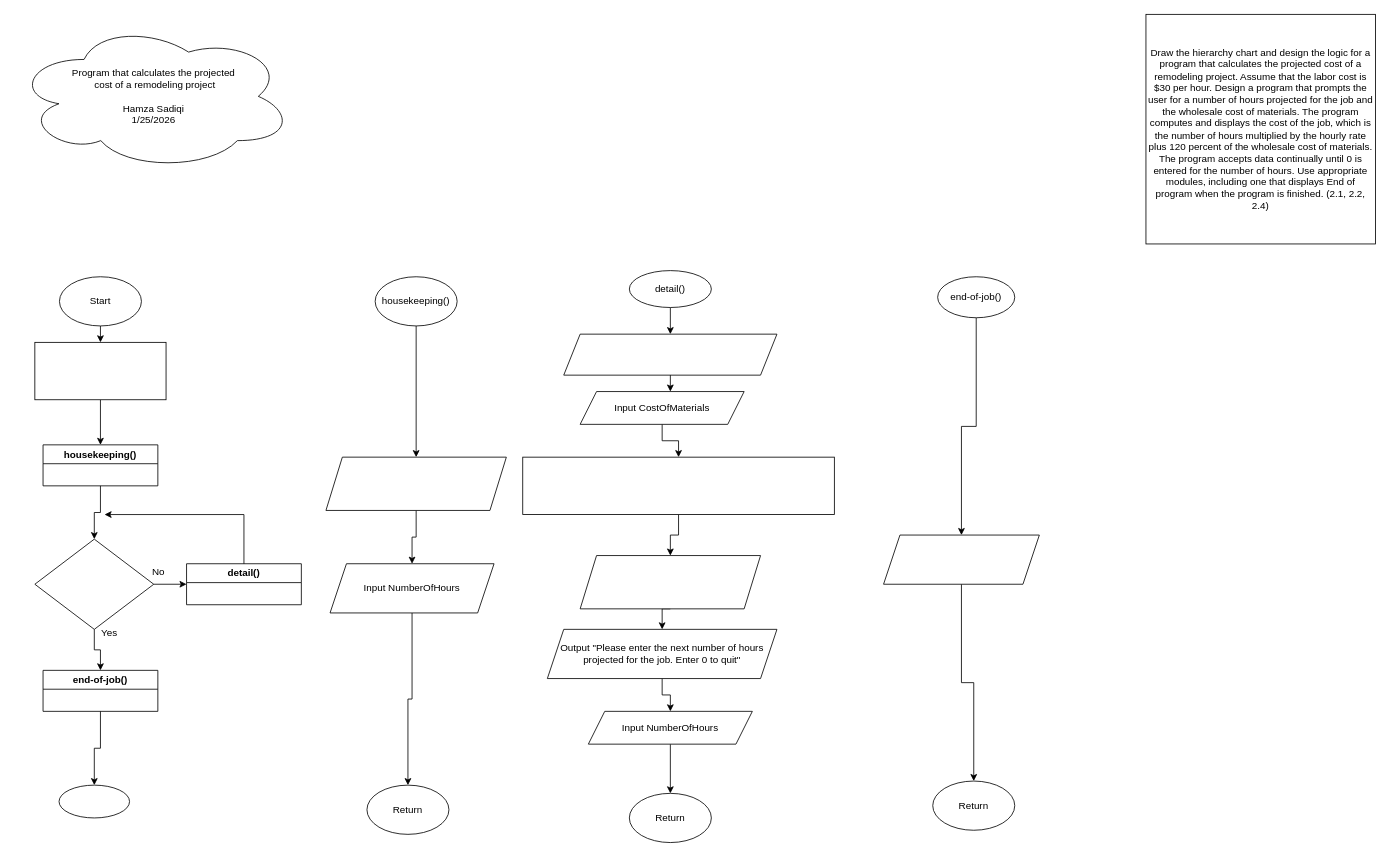
The diagram is 1390 pixels wide and 857 high, and some of its shapes have lost their labels. The box of each missing label's shape, as (x1, y1, x2, y2) in pixels:
CostOfTheJob = (NumberOfHours * 30) + (C ostOfMaterials * 1.2): (522, 456, 834, 515)
is NumberOfHours = 0: (34, 538, 154, 629)
Number NumberOfHours Number C ostOfMaterials Number CostOfTheJob: (34, 342, 166, 400)
Output "Please enter the number of hours projected for the job": (325, 456, 506, 510)
Output "Please enter the wholesale cost of materials": (563, 333, 777, 375)
Output "Thanks for using this program.": (883, 534, 1039, 584)
Output "The cost of the job: " CostOfTheJob: (579, 555, 761, 609)
Stop: (58, 784, 130, 818)
